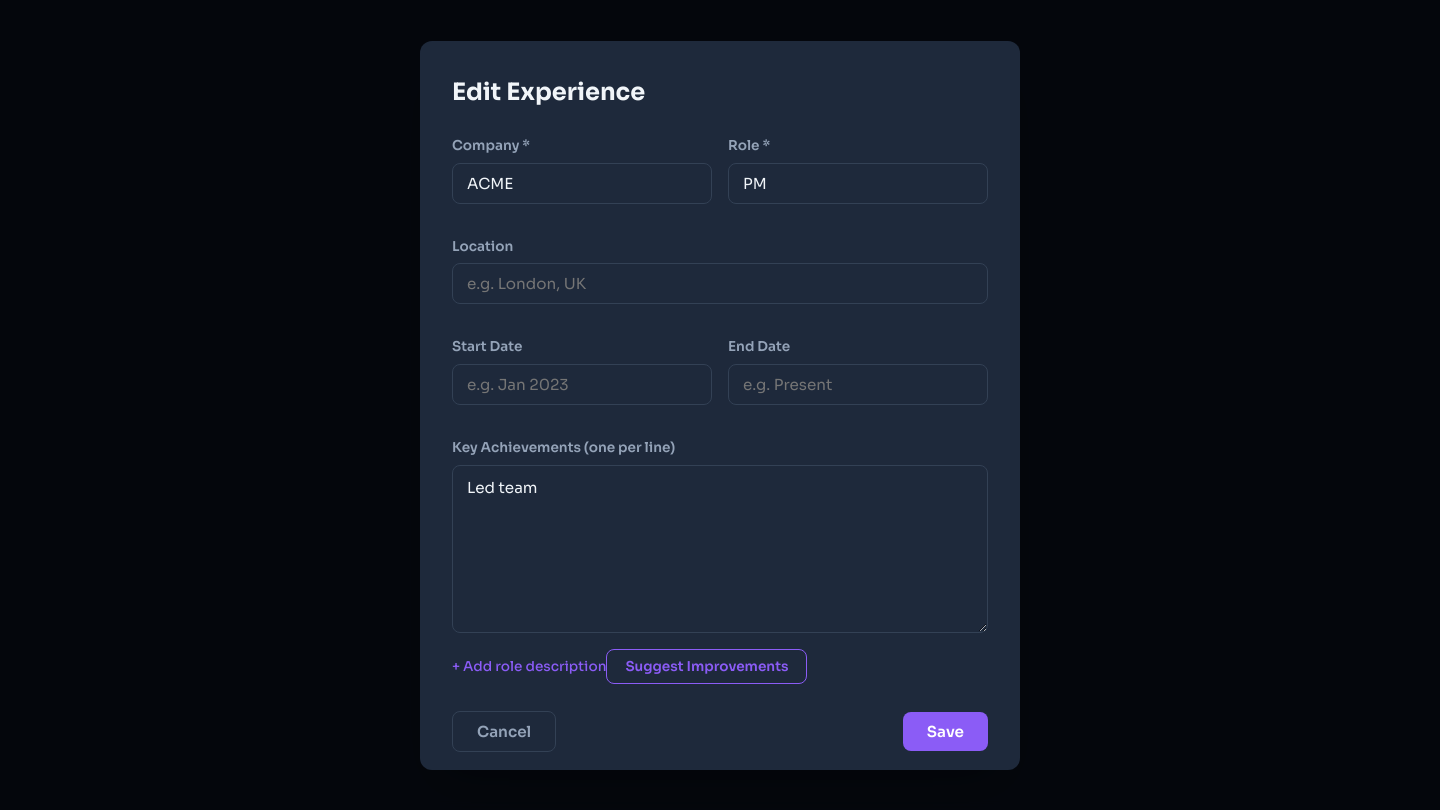
it: ExperienceForm › dismisses suggestions
Click the button "Suggest Improvements": (707, 666) top-left (606, 649), bottom-right (807, 684)
(page scrolled)
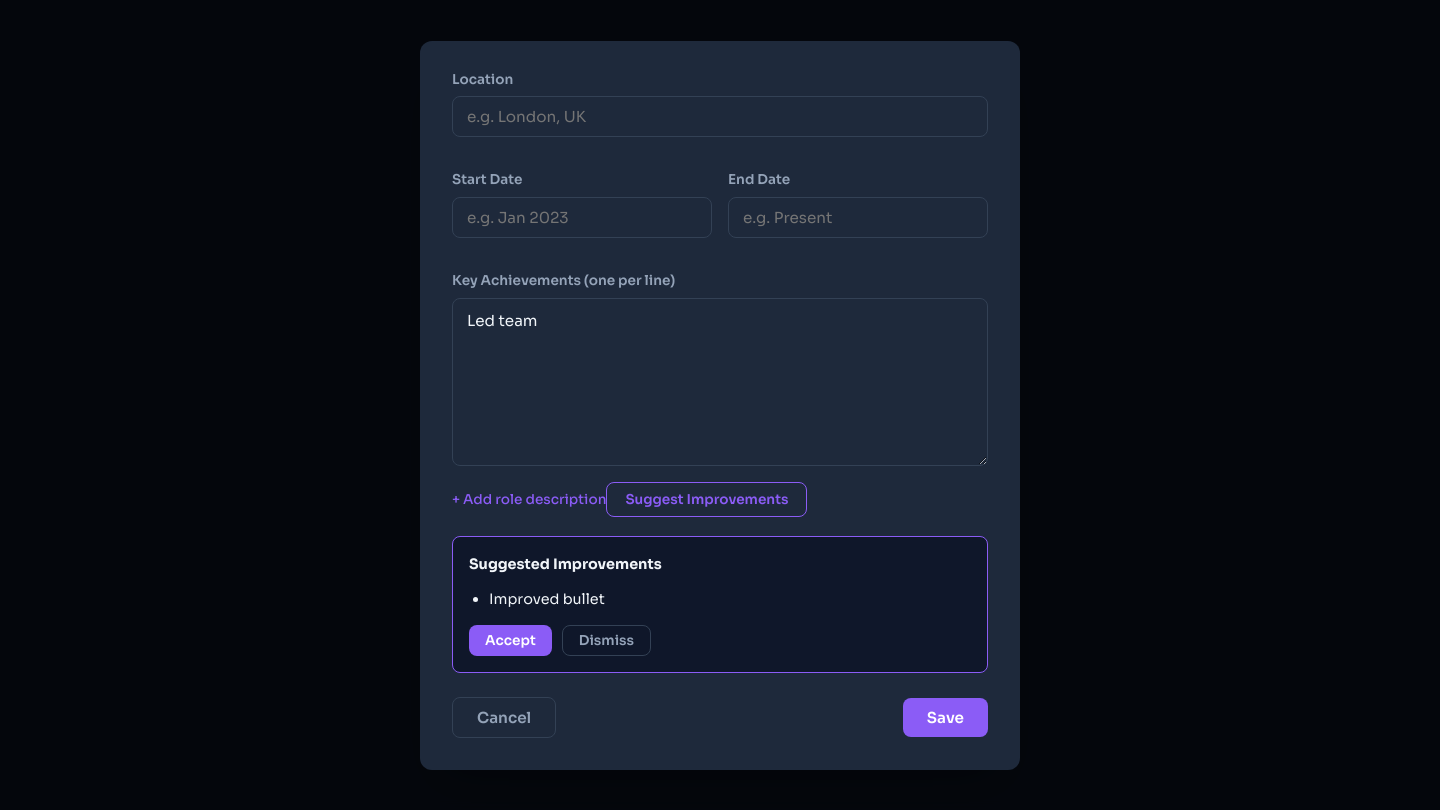
Expected: the heading "Suggested Improvements" is shown, top-left (469, 555), bottom-right (662, 573)
Click the button "Dismiss": (606, 640) top-left (562, 625), bottom-right (651, 656)
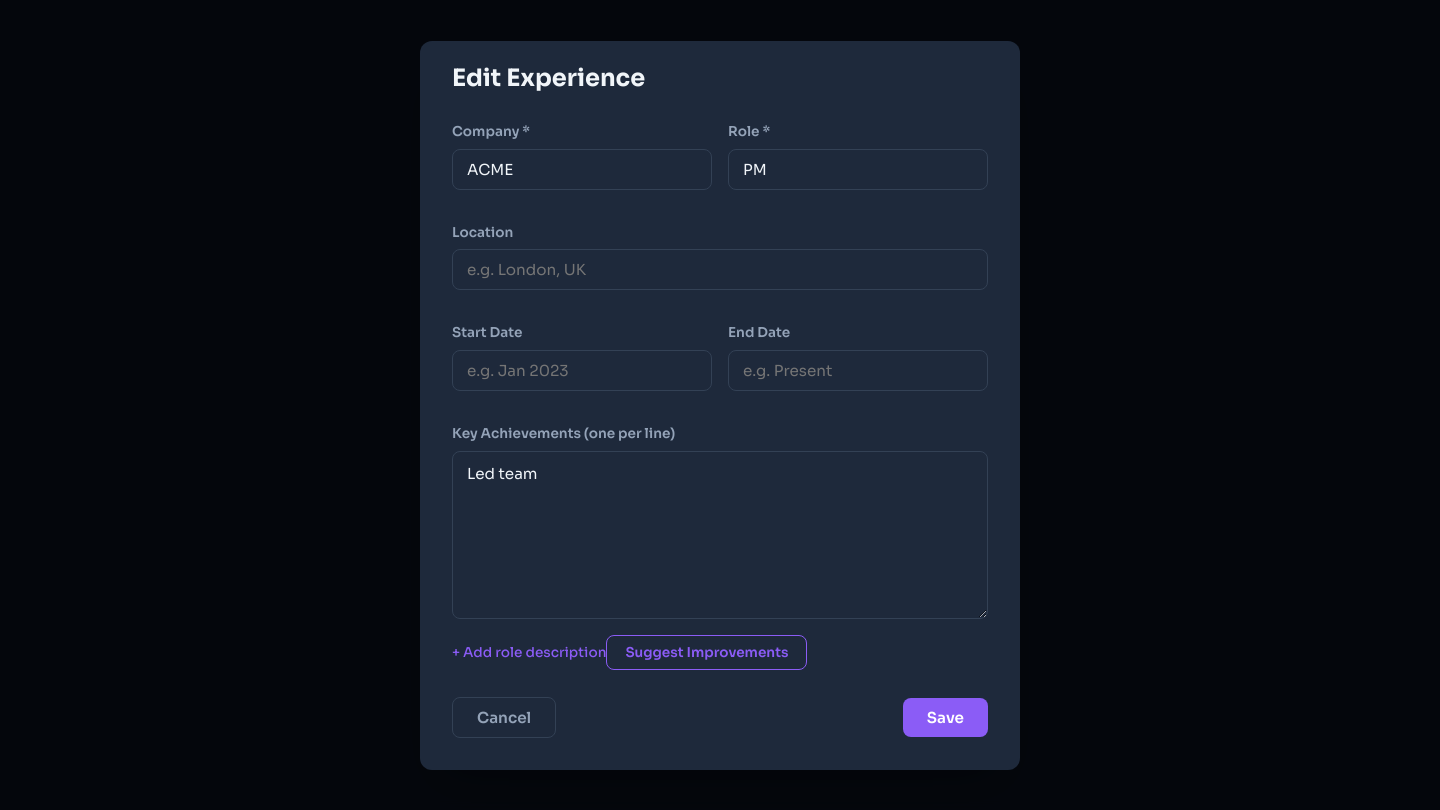
Expected: the text box with placeholder "Led cross-functional team" holds "Led team", top-left (452, 451), bottom-right (988, 619)
Expected: the heading "Suggested Improvements" is gone
